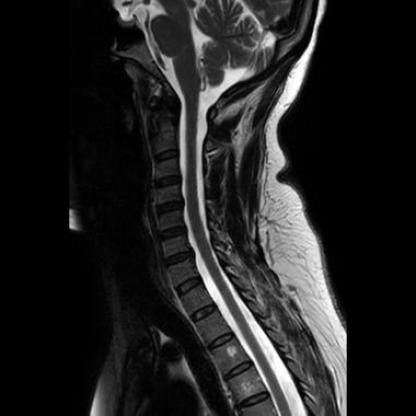Disc Bulgerotation: (161, 250, 195, 268), (154, 200, 185, 215), (157, 225, 188, 240), (153, 174, 183, 189)
